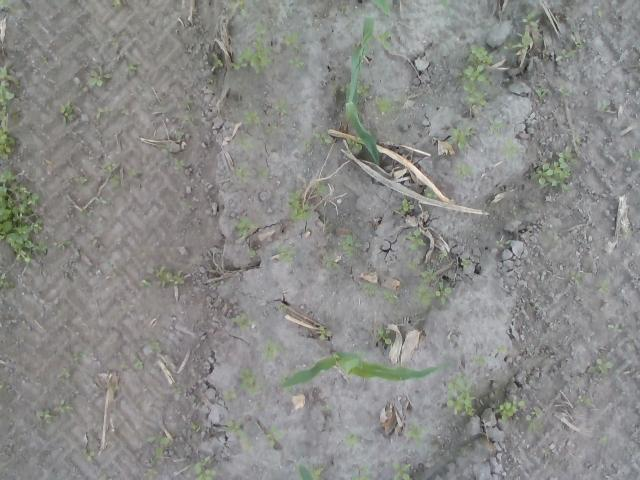Maize: (281, 349, 444, 388), (344, 43, 382, 165), (364, 0, 395, 17), (295, 464, 314, 480)
Weeds: (0, 168, 52, 266), (461, 43, 496, 114), (532, 145, 576, 192), (0, 65, 20, 166), (447, 368, 478, 416), (415, 270, 456, 305), (230, 46, 274, 76), (445, 120, 477, 152), (141, 266, 185, 288), (499, 30, 532, 56), (286, 188, 312, 220), (238, 366, 266, 395), (402, 417, 428, 448), (337, 227, 364, 256), (144, 434, 170, 464), (224, 420, 251, 448), (496, 398, 527, 421), (262, 335, 287, 362), (488, 110, 511, 137), (192, 456, 217, 480), (88, 64, 112, 88), (404, 227, 427, 252), (231, 310, 257, 332), (56, 100, 76, 126), (265, 422, 284, 449), (588, 358, 613, 378), (272, 244, 297, 263), (319, 252, 342, 272), (520, 5, 538, 30), (231, 0, 256, 17), (502, 136, 518, 162), (554, 47, 578, 64), (282, 30, 302, 50), (68, 349, 89, 368), (240, 110, 262, 128), (32, 408, 56, 424), (375, 326, 395, 345), (392, 461, 412, 480), (237, 216, 256, 236), (455, 162, 474, 182), (254, 20, 268, 46), (374, 96, 394, 114), (235, 163, 252, 184), (527, 414, 544, 434), (382, 288, 400, 306), (312, 132, 334, 146), (273, 96, 291, 113), (52, 238, 72, 253), (286, 55, 306, 70), (343, 431, 359, 449), (399, 198, 417, 214), (54, 399, 72, 415), (144, 338, 162, 354), (318, 324, 334, 342), (592, 99, 611, 114), (210, 50, 224, 70), (356, 79, 368, 102), (0, 270, 15, 288), (378, 31, 392, 50), (361, 282, 378, 296), (101, 158, 118, 172), (593, 0, 607, 17), (346, 138, 363, 152), (239, 136, 257, 149), (471, 352, 487, 366), (130, 352, 144, 368), (530, 84, 546, 98), (0, 0, 17, 13), (222, 386, 237, 400), (56, 367, 72, 380), (83, 447, 96, 463), (575, 270, 585, 290), (575, 395, 593, 406), (0, 376, 11, 394), (158, 143, 173, 156), (144, 468, 160, 480), (110, 174, 122, 190), (598, 280, 609, 296), (432, 250, 449, 260), (175, 200, 193, 209), (558, 87, 574, 97), (78, 207, 95, 216), (351, 471, 368, 480), (461, 255, 470, 272), (95, 106, 114, 114), (320, 403, 336, 412), (631, 146, 640, 162), (174, 159, 187, 170), (111, 0, 128, 8), (310, 468, 321, 480), (406, 258, 416, 271), (528, 302, 544, 310), (270, 303, 284, 312), (247, 247, 258, 258), (317, 184, 329, 194), (191, 420, 201, 432), (574, 38, 586, 48), (258, 167, 270, 177), (128, 63, 136, 77), (438, 0, 450, 9), (126, 167, 136, 177), (496, 346, 506, 354), (79, 176, 89, 184), (600, 435, 608, 444), (424, 192, 435, 198), (570, 24, 577, 33), (304, 142, 310, 150), (399, 253, 408, 258)
